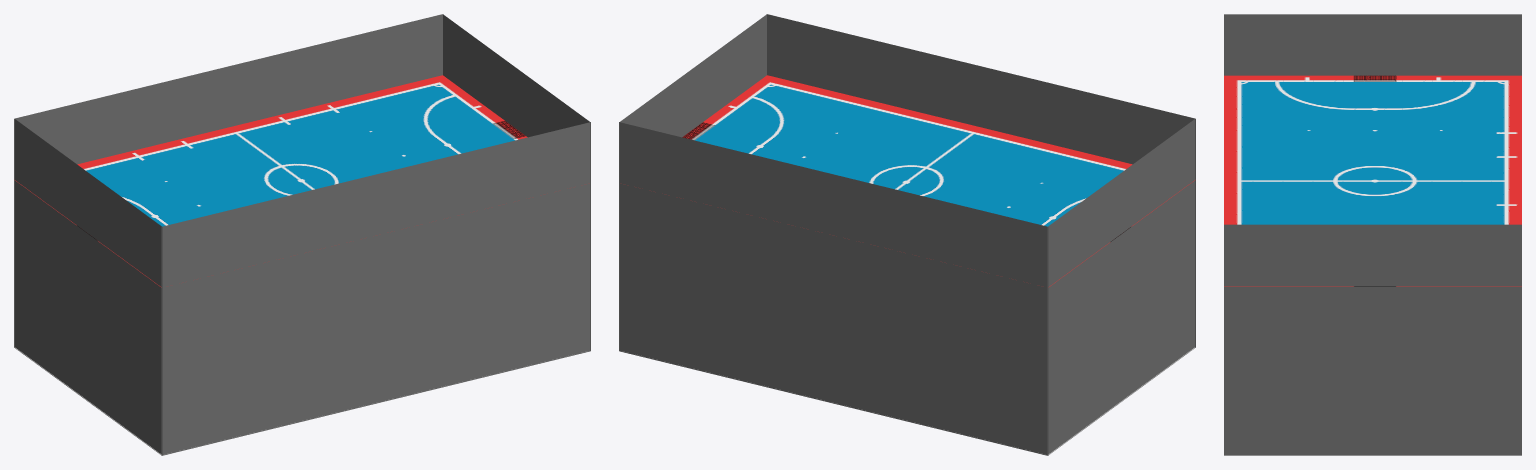
Rendered from Arena.fbx.
The picture shows the model from 3 angles, left to right: view 1: azimuth 30°, elevation 25°; view 2: azimuth 150°, elevation 25°; view 3: azimuth 270°, elevation 25°; orthographic projection.
Parts seen in each view (by area): view 1: Wall__4_, Wall__1_, Ceiling, Wall__3_, Wall__2_; view 2: Wall__3_, Wall__1_, Ceiling, Wall__4_, Wall__2_; view 3: Wall__2_, Ceiling, Wall__1_.
Part boxes in pixels (x1,y1,x2,y2): Wall__4_: (161,122,590,455); Wall__1_: (14,119,162,455); Ceiling: (15,75,527,287); Wall__3_: (14,14,442,347); Wall__2_: (443,14,590,350); Wall__3_: (619,122,1048,455); Wall__1_: (1047,119,1195,455); Ceiling: (682,75,1194,287); Wall__4_: (767,14,1195,347); Wall__2_: (619,14,766,350); Wall__2_: (1224,224,1521,455); Ceiling: (1224,75,1521,286); Wall__1_: (1224,14,1521,75).
Bounding box in the file's own units: 26846 × 13900 × 16011.
Materials: 4 (1 with a texture image).
